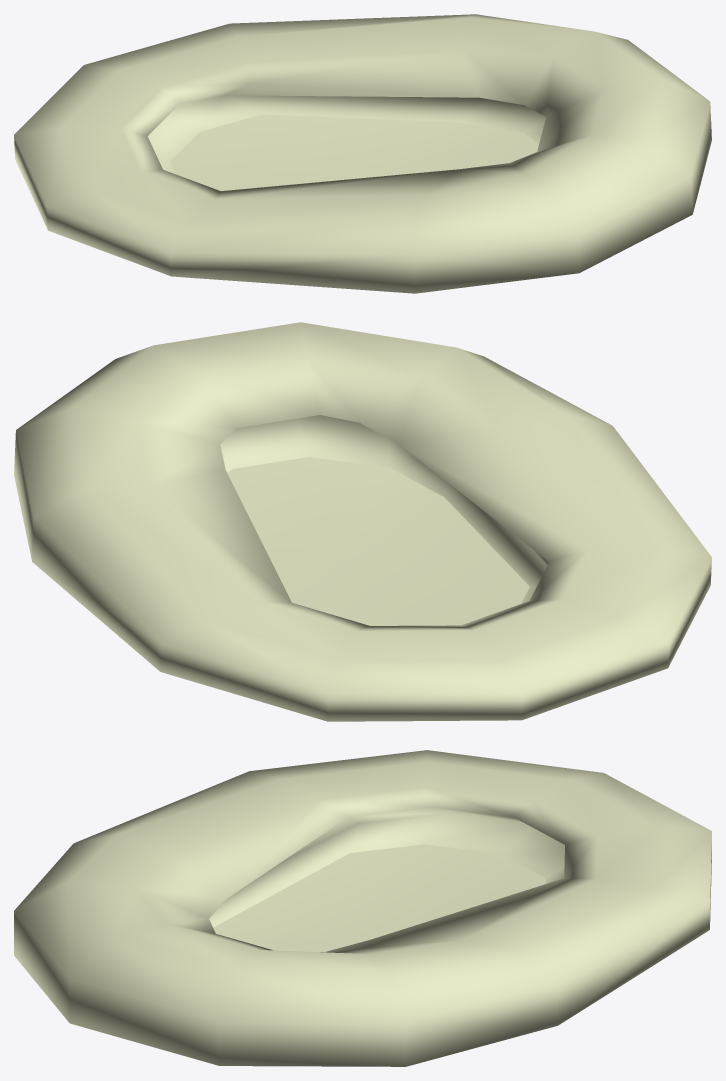
The model's file is surgery_bedpan_low.fbx.
The picture shows the model from 3 angles, top to bottom: view 1: azimuth 30°, elevation 25°; view 2: azimuth 150°, elevation 25°; view 3: azimuth 270°, elevation 25°; orthographic projection. The views are drawn at different scales.
Visible parts, largest first — view 1: surgery_bedpan; view 2: surgery_bedpan; view 3: surgery_bedpan.
Boxes of the visible parts, box(x1,y1,x2,y2) form: surgery_bedpan: box(14, 14, 711, 293); surgery_bedpan: box(14, 322, 711, 721); surgery_bedpan: box(14, 750, 711, 1066).
Size of the model in its own units: 10.59 by 1.67 by 10.03.
